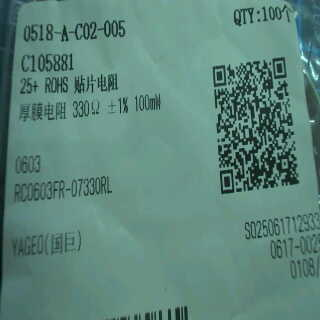330R: (71, 97, 103, 123)
